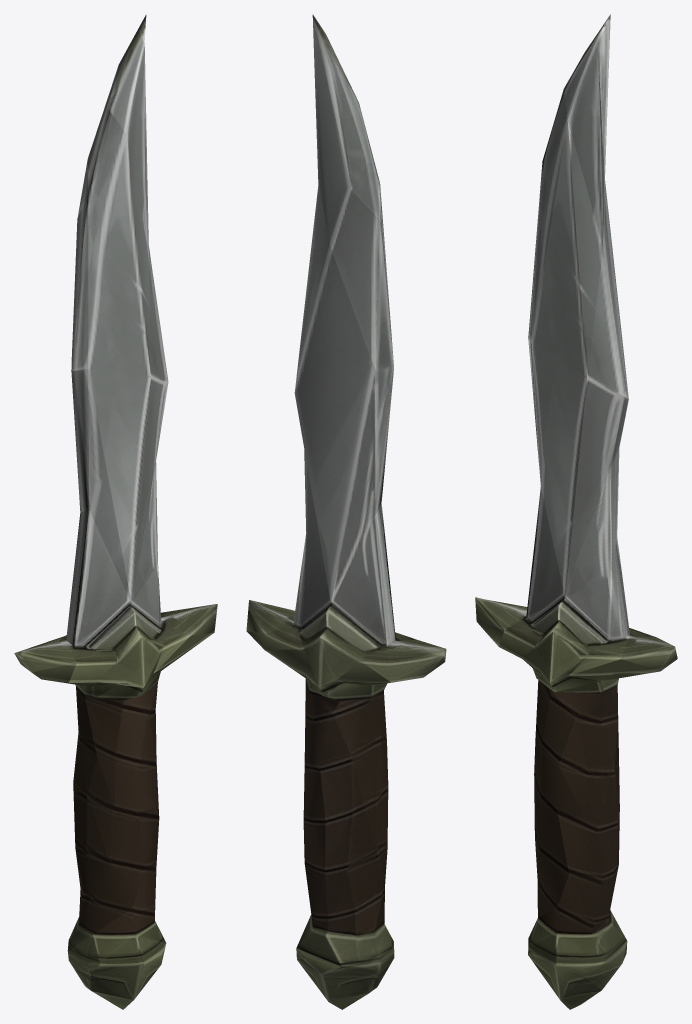
The model's file is elf_weapon.glb.
The picture shows the model from 3 angles, left to right: view 1: azimuth 30°, elevation 25°; view 2: azimuth 150°, elevation 25°; view 3: azimuth 330°, elevation 25°; orthographic projection.
Visible parts, largest first — view 1: mesh_node; view 2: mesh_node; view 3: mesh_node.
Boxes of the visible parts, x1,y1,x2,y2 form: mesh_node: [14, 14, 217, 1009]; mesh_node: [246, 14, 446, 1009]; mesh_node: [475, 14, 677, 1009].
Bounding box in the file's own units: 0.4233 × 2 × 0.2005.
1 material, 1 textured.
